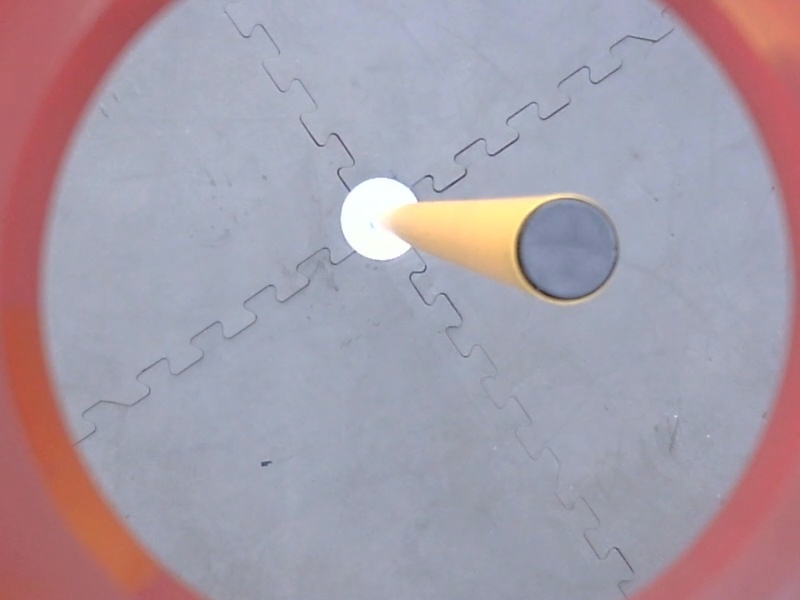tip: (510, 190, 628, 309)
